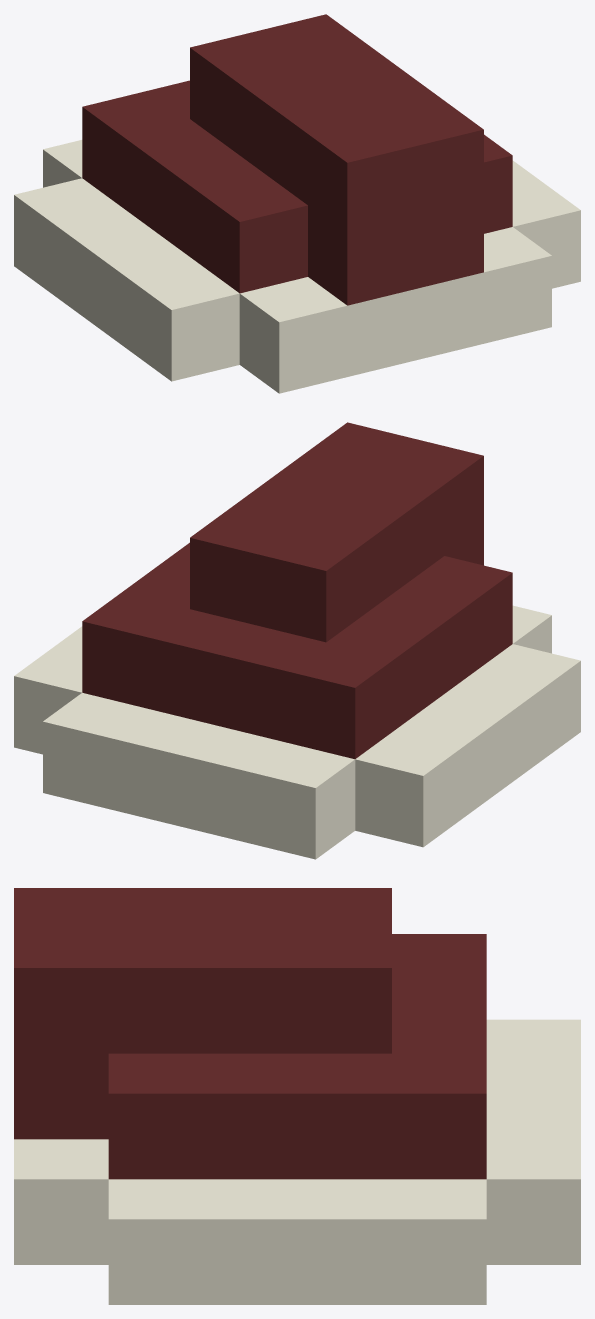
File: characters_export_red-260-helm_lgt_2c_du_color.obj
The picture shows the model from 3 angles, top to bottom: view 1: azimuth 30°, elevation 25°; view 2: azimuth 150°, elevation 25°; view 3: azimuth 270°, elevation 25°; orthographic projection. The views are drawn at different scales.
Parts seen in each view (by area): view 1: helm_lgt_2c_du_color; view 2: helm_lgt_2c_du_color; view 3: helm_lgt_2c_du_color.
Boxes of the visible parts, x1,y1,x2,y2 form: helm_lgt_2c_du_color: (14, 14, 580, 393); helm_lgt_2c_du_color: (14, 422, 580, 859); helm_lgt_2c_du_color: (14, 888, 580, 1304).
Size of the model in its own units: 0.6 by 0.3 by 0.6.
1 material, 1 textured.
